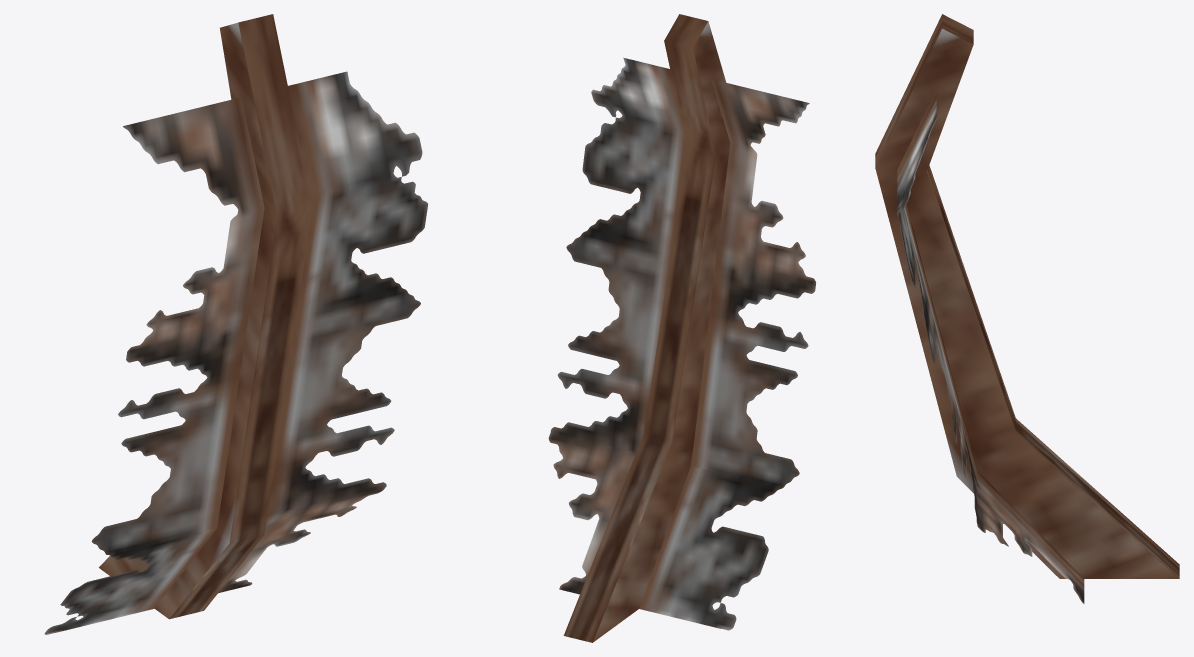
The model's file is junk6.glb.
3 views of the same model, side by side, from view 1: azimuth 30°, elevation 25°; view 2: azimuth 150°, elevation 25°; view 3: azimuth 270°, elevation 25° (orthographic). The views are drawn at different scales.
Parts seen in each view (by area): view 1: Junk6; view 2: Junk6; view 3: Junk6.
Part boxes in pixels (left/top/right/bottom): Junk6: left=44, top=14, right=428, bottom=634; Junk6: left=548, top=14, right=815, bottom=642; Junk6: left=875, top=14, right=1179, bottom=603.
Bounding box in the file's own units: 5.45 × 10.23 × 5.13.
Materials: 1 (1 with a texture image).
